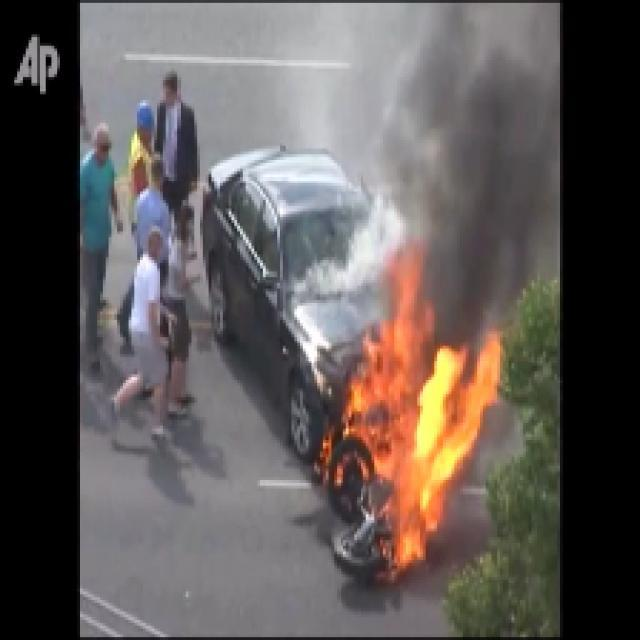Fire: (367, 337, 483, 550)
Smoke: (416, 14, 558, 290)
